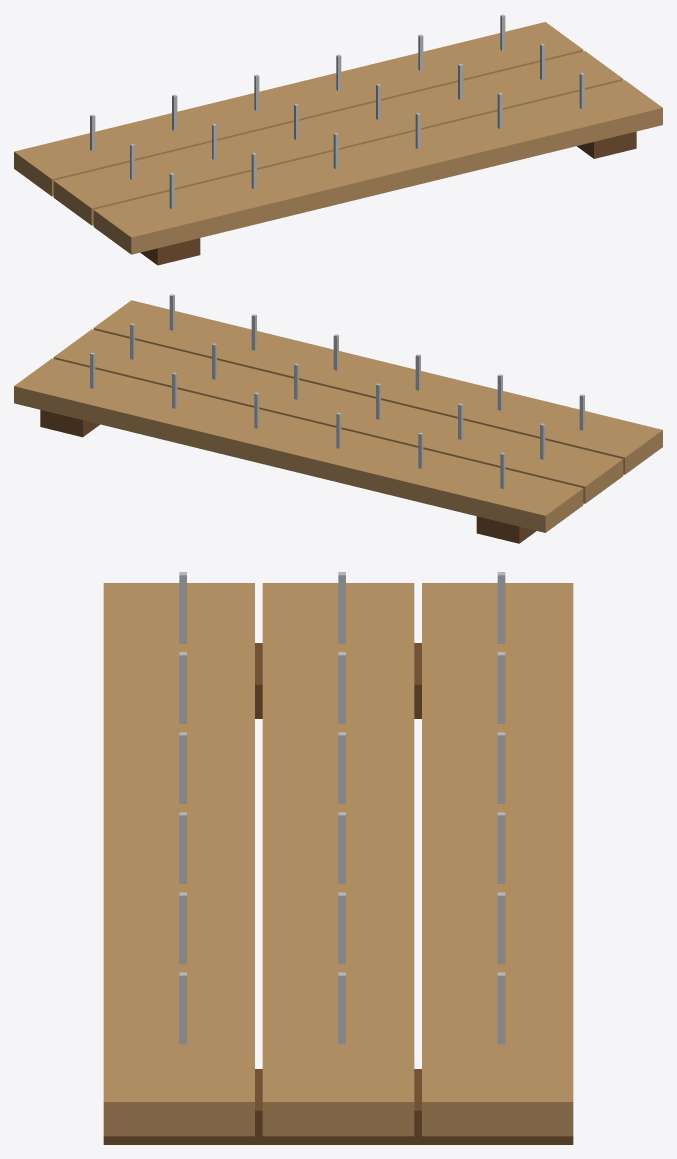
File: board_trap.glb
The picture shows the model from 3 angles, top to bottom: view 1: azimuth 30°, elevation 25°; view 2: azimuth 150°, elevation 25°; view 3: azimuth 270°, elevation 25°; orthographic projection. The views are drawn at different scales.
Parts seen in each view (by area): view 1: board_trap:compound; view 2: board_trap:compound; view 3: board_trap:compound.
Part boxes in pixels (x1,y1,x2,y2): board_trap:compound: (14, 14, 662, 265); board_trap:compound: (14, 294, 662, 543); board_trap:compound: (103, 572, 573, 1144).
Bounding box in the file's own units: 0.648 × 0.08 × 0.248.
